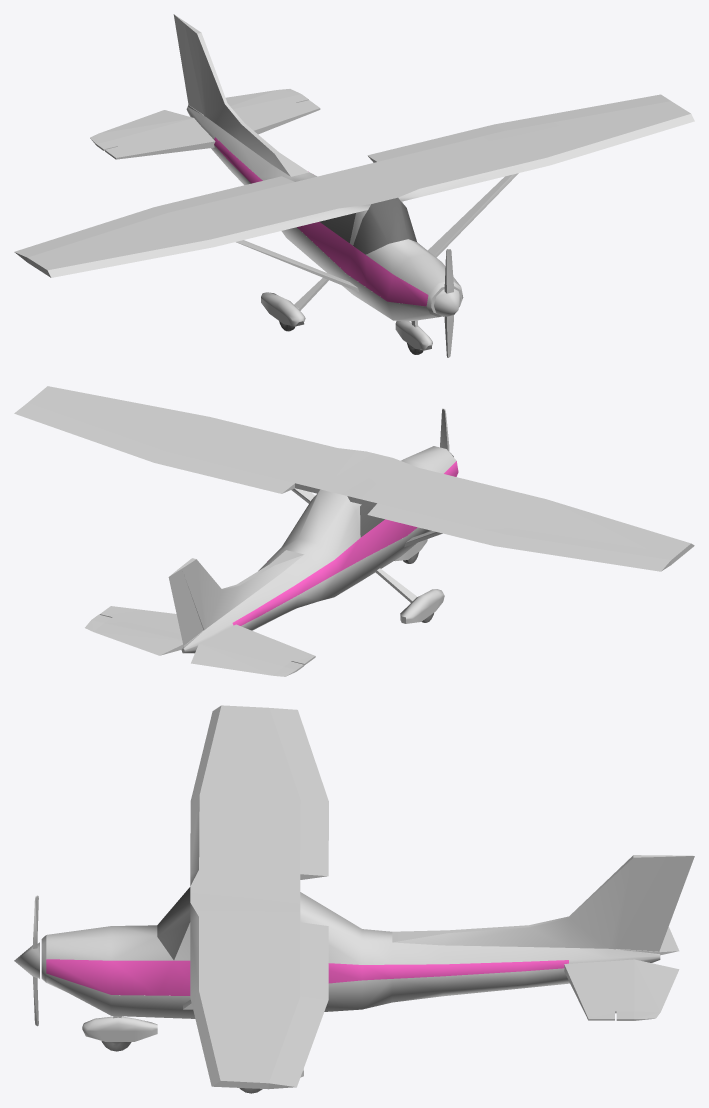
3 renders of one model, top to bottom at view 1: azimuth 30°, elevation 25°; view 2: azimuth 150°, elevation 25°; view 3: azimuth 270°, elevation 25°, orthographic. The views are drawn at different scales.
Visible parts, largest first — view 1: plane, propeller; view 2: plane; view 3: plane, propeller.
Part boxes in pixels (bbox=[...]): plane: bbox=[14, 14, 694, 354]; propeller: bbox=[434, 249, 460, 357]; plane: bbox=[14, 386, 694, 676]; plane: bbox=[41, 705, 694, 1093]; propeller: bbox=[14, 895, 39, 1026].
Size of the model in its own units: 11.02 by 2.65 by 8.4.
